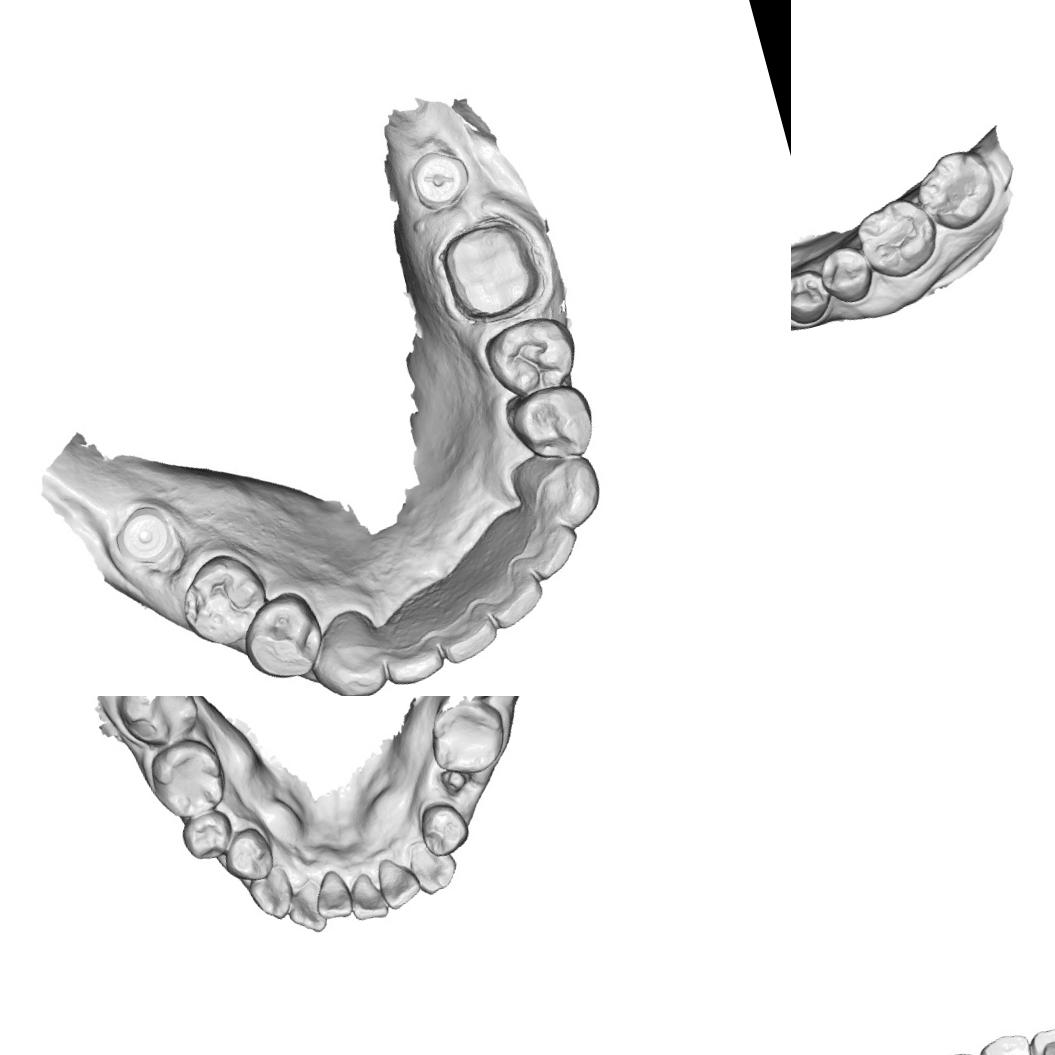canine: (503, 441, 610, 543), (301, 601, 398, 696), (402, 831, 464, 899), (241, 861, 300, 926), (973, 1027, 1042, 1055)
crown: (431, 210, 550, 329)
implant: (100, 497, 184, 572)
implant_minus: (405, 142, 471, 211)
incisor: (511, 509, 591, 589), (424, 594, 508, 668), (374, 606, 447, 687), (473, 558, 552, 632), (372, 848, 426, 912), (280, 878, 331, 940), (306, 866, 357, 924), (342, 867, 390, 924), (1022, 1019, 1055, 1055)
molar: (908, 142, 1005, 239), (849, 190, 946, 286), (141, 730, 234, 825), (418, 696, 514, 783)
premolar: (168, 545, 276, 656), (476, 308, 582, 408), (232, 585, 330, 688), (501, 376, 602, 472), (813, 240, 879, 309), (413, 796, 476, 860), (174, 803, 238, 866), (217, 822, 278, 888), (791, 263, 835, 330)
